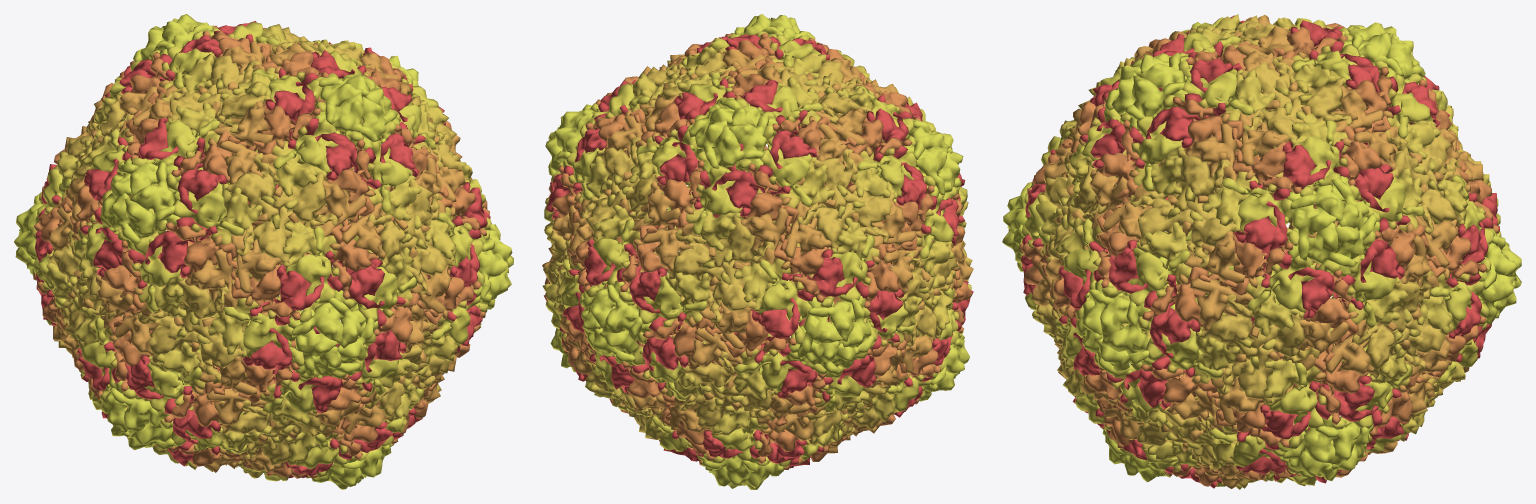
The model's file is 1OHF-1OHG.glb.
3 views of the same model, side by side, from view 1: azimuth 30°, elevation 25°; view 2: azimuth 150°, elevation 25°; view 3: azimuth 270°, elevation 25° (orthographic). The views are drawn at different scales.
Size of the model in its own units: 593 by 596 by 651.
